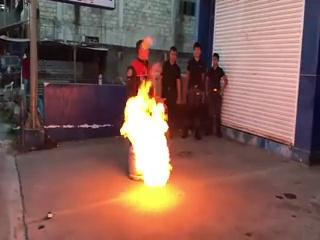Fire: (117, 78, 182, 194)
